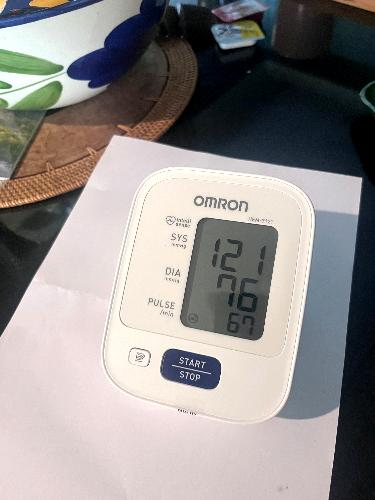bpm: (178, 212, 283, 342)
